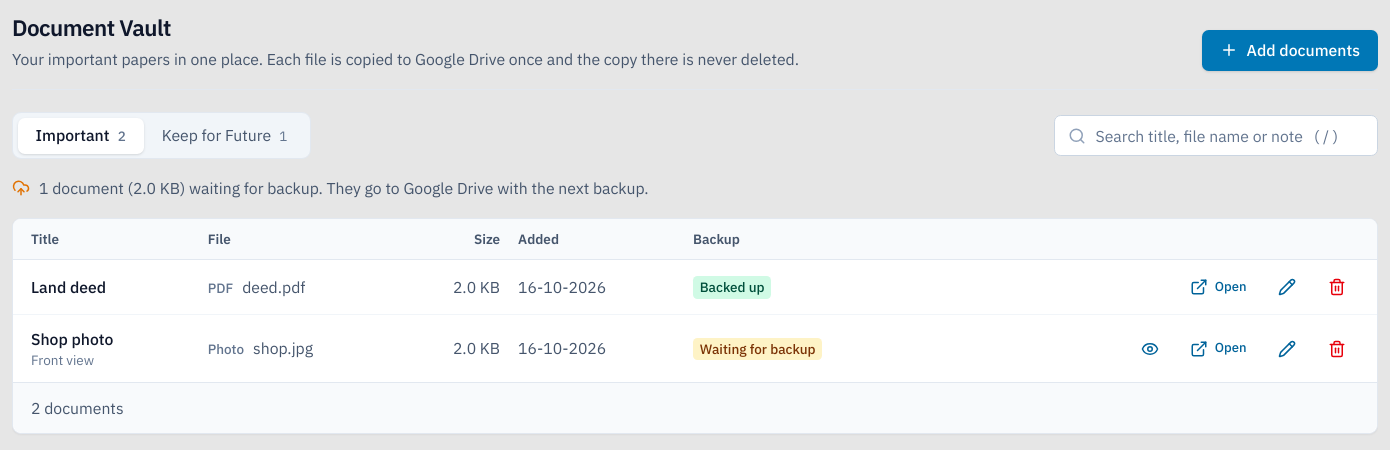
Scenario: Document Vault › searches
Expected: the text "Land deed" is shown, [31,277,106,297]
Type "photo" into the field named "Search documents". click: (1216, 136)
box: [1054,115,1378,156]
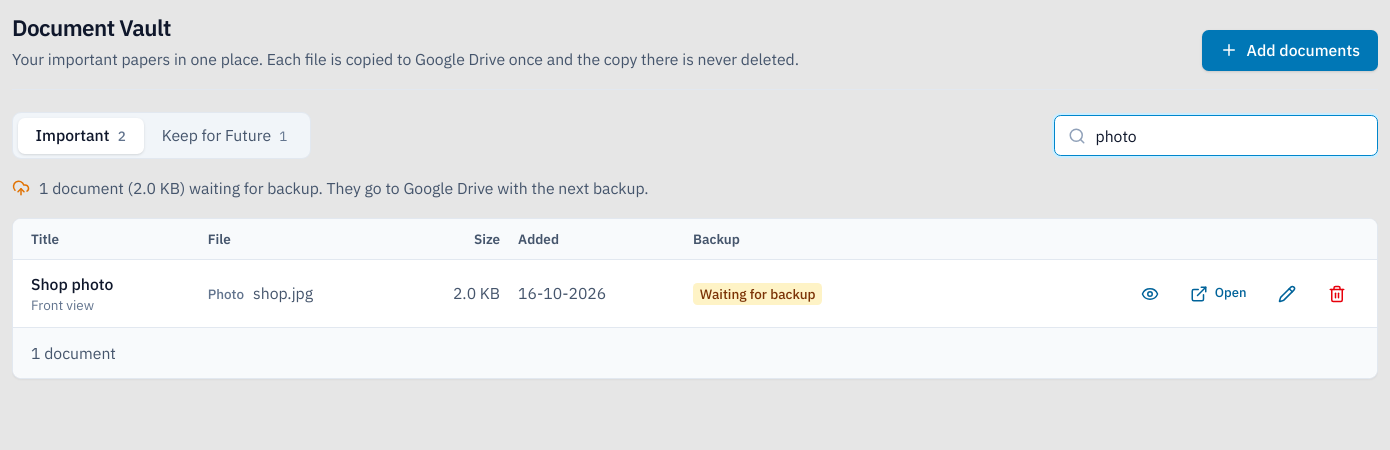
Expected: the text "Shop photo" is shown, [31,274,113,294]
Expected: the text "Land deed" is gone
